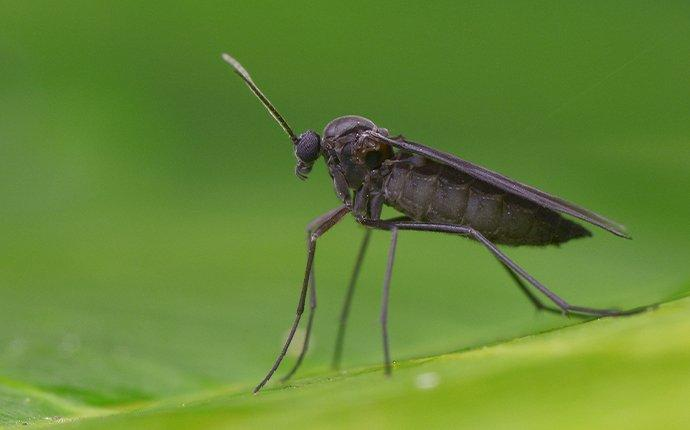Fruit fly: (202, 55, 622, 369)
